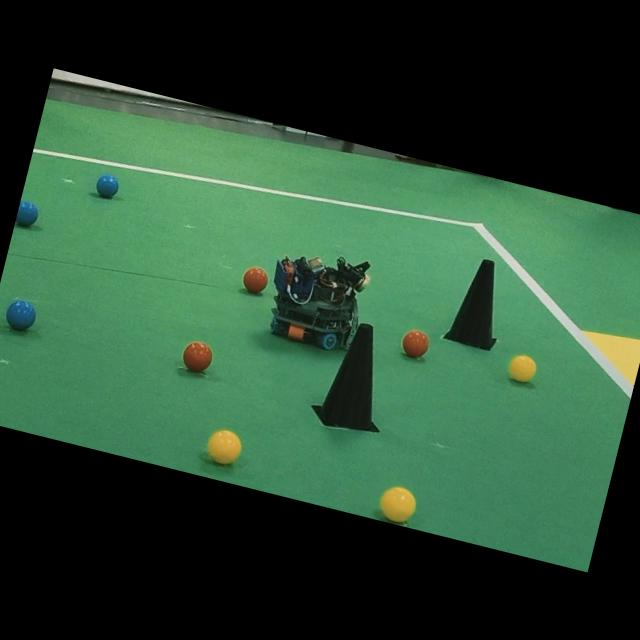ball: (380, 486, 416, 522), (207, 429, 241, 464), (182, 341, 212, 372), (5, 300, 35, 330), (508, 354, 536, 382), (401, 329, 429, 357), (242, 266, 268, 293), (15, 200, 37, 226), (95, 174, 118, 198)
goal: (584, 331, 640, 385)
